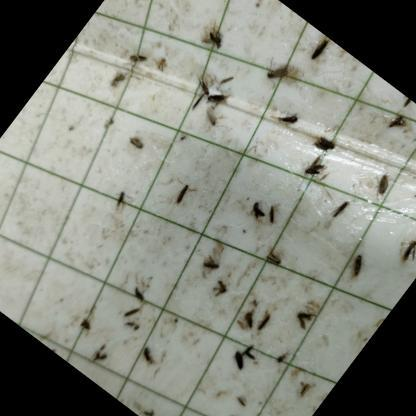prays_oleae: (336, 245, 376, 288), (193, 23, 234, 64), (364, 169, 402, 211), (103, 182, 138, 220), (164, 178, 198, 216), (286, 304, 319, 342), (221, 341, 255, 377), (121, 278, 156, 312), (233, 301, 266, 337), (123, 36, 157, 70), (297, 156, 329, 192), (70, 310, 102, 346), (390, 224, 416, 267), (308, 126, 340, 160), (263, 343, 294, 377), (260, 56, 292, 88), (207, 272, 237, 305), (303, 35, 332, 68), (272, 105, 302, 135), (288, 374, 316, 406), (204, 86, 234, 115), (260, 201, 288, 232), (196, 250, 224, 278), (245, 199, 272, 227), (381, 111, 408, 138), (260, 246, 286, 274), (123, 133, 149, 158), (135, 342, 160, 368), (230, 387, 254, 410), (330, 196, 352, 220), (120, 307, 138, 324), (217, 409, 243, 416)
